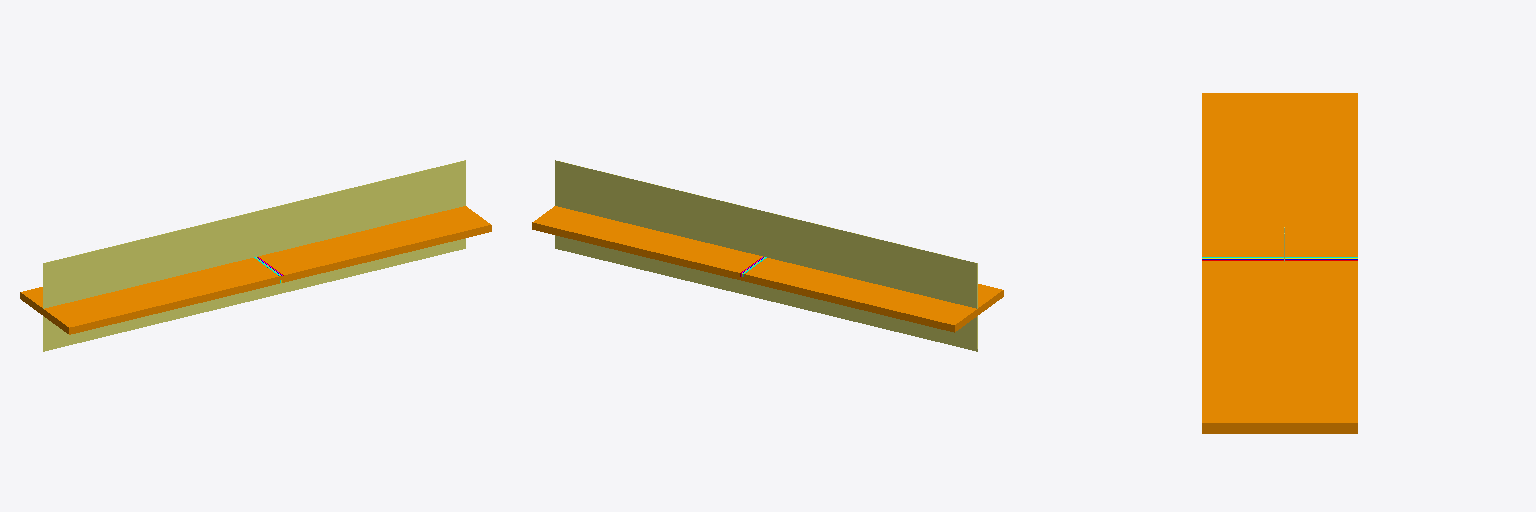
URDF robot description (ground_skeleton):
<?xml version="1.0"?>
<robot name="ground_skeleton">
    <link name="world" />
    <link name="ground_link">
        <inertial>
            <mass value="1.0" />
            <origin xyz="2.5 0 -1.388" rpy="0 0 0"/>
            <inertia ixx="1.0" ixy="0" ixz="0" iyy="1.0" iyz="0" izz="1.0" />
        </inertial>
        <visual>
            <origin xyz="0 0 -1.388" rpy="0 0 0" />
            <geometry>
                <box size="125 25 2.05" />
            </geometry>
            <material name="Carpet">
                <color rgba ="1.0 0.6 0.01 0.7"/>
            </material>
        </visual>
        <collision group="default">
            <origin xyz="0 0 -1.388"  rpy="0 0 0"/>
            <geometry>
                <box size="125 25 2.05" />
            </geometry>
        </collision>
    </link>
    <joint name="ground_joint" type="fixed">
        <origin xyz="0 0 0" rpy="0 0 0" />
        <parent link="world" />
        <child link="ground_link" />
    </joint>

    <link name="obstacle1">
        <inertial>
            <mass value="1.0" />
            <origin xyz="0 0 -1.368" rpy="0 0 0"/>
            <inertia ixx="1.0" ixy="0" ixz="0" iyy="1.0" iyz="0" izz="1.0" />
        </inertial>
        <visual>
            <origin xyz="0.0 0 -1.368" rpy="0 0 0" />
            <geometry>
                <box size="0.4 25 2.05" />
            </geometry>
            <material name="G">
                <color rgba ="0.0 1.0 1.0 1.0"/>
            </material>
        </visual>
        <collision group="default">
            <origin xyz="0.0 0 -1.368"  rpy="0 0 0"/>
            <geometry>
                <box size="0.4 25 2.05" />
            </geometry>
        </collision>
    </link>
    <joint name="obstacle_joint1" type="fixed">
        <origin xyz="0 0 0" rpy="0 0 0" />
        <parent link="ground_link" />
        <child link="obstacle1" />
    </joint>

    <link name="obstacle2">
        <inertial>
            <mass value="1.0" />
            <origin xyz="0 0 -1.368" rpy="0 0 0"/>
            <inertia ixx="1.0" ixy="0" ixz="0" iyy="1.0" iyz="0" izz="1.0" />
        </inertial>
        <visual>
            <origin xyz="0.3 0 -1.368" rpy="0 0 0" />
            <geometry>
                <box size="0.2 25 2.05" />
            </geometry>
            <material name="Y">
                <color rgba ="1.0 1.0 0.0 1.0"/>
            </material>
        </visual>
        <collision group="default">
            <origin xyz="0.3 0 -1.368"  rpy="0 0 0"/>
            <geometry>
                <box size="0.2 25 2.05" />
            </geometry>
        </collision>
    </link>
    <joint name="obstacle_joint2" type="fixed">
        <origin xyz="0 0 0" rpy="0 0 0" />
        <parent link="ground_link" />
        <child link="obstacle2" />
    </joint>

    <link name="obstacle3">
        <inertial>
            <mass value="1.0" />
            <origin xyz="0 0 -1.368" rpy="0 0 0"/>
            <inertia ixx="1.0" ixy="0" ixz="0" iyy="1.0" iyz="0" izz="1.0" />
        </inertial>
        <visual>
            <origin xyz="0.5 0 -1.368" rpy="0 0 0" />
            <geometry>
                <box size="0.2 25 2.05" />
            </geometry>
            <material name="B">
                <color rgba ="0.0 0.0 1.0 1.0"/>
            </material>
        </visual>
        <collision group="default">
            <origin xyz="0.5 0 -1.368"  rpy="0 0 0"/>
            <geometry>
                <box size="0.2 25 2.05" />
            </geometry>
        </collision>
    </link>
    <joint name="obstacle_joint3" type="fixed">
        <origin xyz="0 0 0" rpy="0 0 0" />
        <parent link="ground_link" />
        <child link="obstacle3" />
    </joint>

    <link name="obstacle4">
        <inertial>
            <mass value="1.0" />
            <origin xyz="0 0 -1.368" rpy="0 0 0"/>
            <inertia ixx="1.0" ixy="0" ixz="0" iyy="1.0" iyz="0" izz="1.0" />
        </inertial>
        <visual>
            <origin xyz="0.7 0 -1.368" rpy="0 0 0" />
            <geometry>
                <box size="0.2 25 2.05" />
            </geometry>
            <material name="C">
                <color rgba ="1.0 0.0 1.0 1.0"/>
            </material>
        </visual>
        <collision group="default">
            <origin xyz="0.7 0 -1.368"  rpy="0 0 0"/>
            <geometry>
                <box size="0.2 25 2.05" />
            </geometry>
        </collision>
    </link>
    <joint name="obstacle_joint4" type="fixed">
        <origin xyz="0 0 0" rpy="0 0 0" />
        <parent link="ground_link" />
        <child link="obstacle4" />
    </joint>


    <link name="obstacle5">
        <inertial>
            <mass value="1.0" />
            <origin xyz="0 0 -1.368" rpy="0 0 0"/>
            <inertia ixx="1.0" ixy="0" ixz="0" iyy="1.0" iyz="0" izz="1.0" />
        </inertial>
        <visual>
            <origin xyz="0.9 0 -1.368" rpy="0 0 0" />
            <geometry>
                <box size="0.2 25 2.05" />
            </geometry>
            <material name="R">
                <color rgba ="1.0 0.0 0.0 1.0"/>
            </material>
        </visual>
        <collision group="default">
            <origin xyz="0.9 0 -1.368"  rpy="0 0 0"/>
            <geometry>
                <box size="0.2 25 2.05" />
            </geometry>
        </collision>
    </link>
    <joint name="obstacle_joint5" type="fixed">
        <origin xyz="0 0 0" rpy="0 0 0" />
        <parent link="ground_link" />
        <child link="obstacle5" />
    </joint>

    <link name="wall">
        <inertial>
            <mass value="1.0" />
            <origin xyz="0 0 -1.368" rpy="0 0 0"/>
            <inertia ixx="1.0" ixy="0" ixz="0" iyy="1.0" iyz="0" izz="1.0" />
        </inertial>
        <visual>
            <origin xyz="0 0.8 0" rpy="1.57 0 0" />
            <geometry>
                <box size="125 25 0.1" />
            </geometry>
            <material name="Grey">
                <color rgba ="0.9 0.9 0.47 1.0"/>
            </material>
        </visual>
        <!--<collision group="default">
            <origin xyz="0 0.5 0" rpy="1.57 0 0" />
            <geometry>
                <box size="125 25 0.1" />
            </geometry>
        </collision>-->
    </link>
    <joint name="ground_joint_wall" type="fixed">
        <origin xyz="0 0 0" rpy="0 0 0" />
        <parent link="ground_link" />
        <child link="wall" />
    </joint>


    <link name="pillar1">
        <inertial>
            <mass value="1.0" />
            <origin xyz="0 0 0.368" rpy="0 0 0"/>
            <inertia ixx="1.0" ixy="0" ixz="0" iyy="1.0" iyz="0" izz="1.0" />
        </inertial>
        <visual>
            <origin xyz="0.7 0.77 0.368" rpy="0 0 0" />
            <geometry>
                <box size="0.1 0.1 10.0" />
            </geometry>
            <material name="pillar">
                <color rgba ="0.9 0.9 0.47 1.0"/>
            </material>
        </visual>
    </link>
    <joint name="pillar1joint" type="fixed">
        <origin xyz="0 0 0" rpy="0 0 0" />
        <parent link="ground_link" />
        <child link="pillar1" />
    </joint>

    <link name="pillar2">
        <inertial>
            <mass value="1.0" />
            <origin xyz="0 0 -0.368" rpy="0 0 0"/>
            <inertia ixx="1.0" ixy="0" ixz="0" iyy="1.0" iyz="0" izz="1.0" />
        </inertial>
        <visual>
            <origin xyz="0.0 0.77 -0.368" rpy="0 0 0" />
            <geometry>
                <box size="0.1 0.1 10.0" />
            </geometry>
            <material name="pillar">
                <color rgba ="0.9 0.9 0.47 1.0"/>
            </material>
        </visual>
    </link>
    <joint name="pillar2joint" type="fixed">
        <origin xyz="0 0 0" rpy="0 0 0" />
        <parent link="ground_link" />
        <child link="pillar2" />
    </joint>


    <link name="pillar3">
        <inertial>
            <mass value="1.0" />
            <origin xyz="0 0 -0.368" rpy="0 0 0"/>
            <inertia ixx="1.0" ixy="0" ixz="0" iyy="1.0" iyz="0" izz="1.0" />
        </inertial>
        <visual>
            <origin xyz="1.4 0.77 -0.368" rpy="0 0 0" />
            <geometry>
                <box size="0.1 0.1 10.0" />
            </geometry>
            <material name="pillar">
                <color rgba ="0.9 0.9 0.47 1.0"/>
            </material>
        </visual>
    </link>
    <joint name="pillar3joint" type="fixed">
        <origin xyz="0 0 0" rpy="0 0 0" />
        <parent link="ground_link" />
        <child link="pillar3" />
    </joint>

</robot>

--- What the picture shows (computed from the rendered views, not written in the file) ---
The picture shows the robot from 3 angles, left to right: view 1: azimuth 30°, elevation 25°; view 2: azimuth 150°, elevation 25°; view 3: azimuth 270°, elevation 25°; orthographic projection.
Model ground_skeleton with 11 links and 10 joints (10 fixed), rooted at world, posed all joints at 0.
Visible links, largest first — view 1: wall, ground_link; view 2: wall, ground_link; view 3: ground_link.
Link boxes in pixels (left/top/right/bottom): wall: left=43, top=160, right=465, bottom=351; ground_link: left=20, top=206, right=491, bottom=334; wall: left=555, top=160, right=977, bottom=351; ground_link: left=532, top=206, right=1003, bottom=332; ground_link: left=1202, top=93, right=1357, bottom=433.
Size in the robot's own frame: 125 by 25 by 25 metres.
Geometry: primitives only (box / cylinder / sphere), no mesh files.
